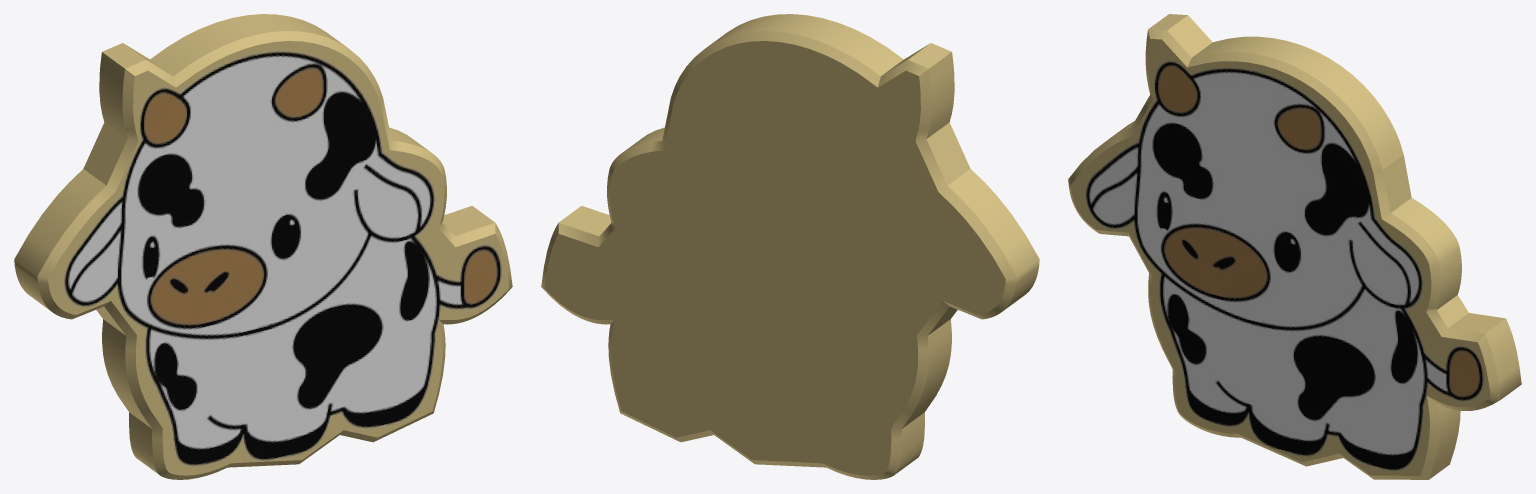
3 views of the same model, side by side, from view 1: azimuth 30°, elevation 25°; view 2: azimuth 150°, elevation 25°; view 3: azimuth 330°, elevation 25° (orthographic). The views are drawn at different scales.
Visible parts, largest first — view 1: Path-Mat, Path-bg; view 2: Path-bg; view 3: Path-Mat, Path-bg.
Boxes of the visible parts, x1,y1,x2,y2 form: Path-Mat: [48, 41, 509, 475]; Path-bg: [14, 14, 512, 479]; Path-bg: [541, 14, 1039, 479]; Path-Mat: [1071, 38, 1490, 475]; Path-bg: [1068, 14, 1521, 479].
Bounding box in the file's own units: 889 × 789 × 100.
2 materials, 2 textured.
